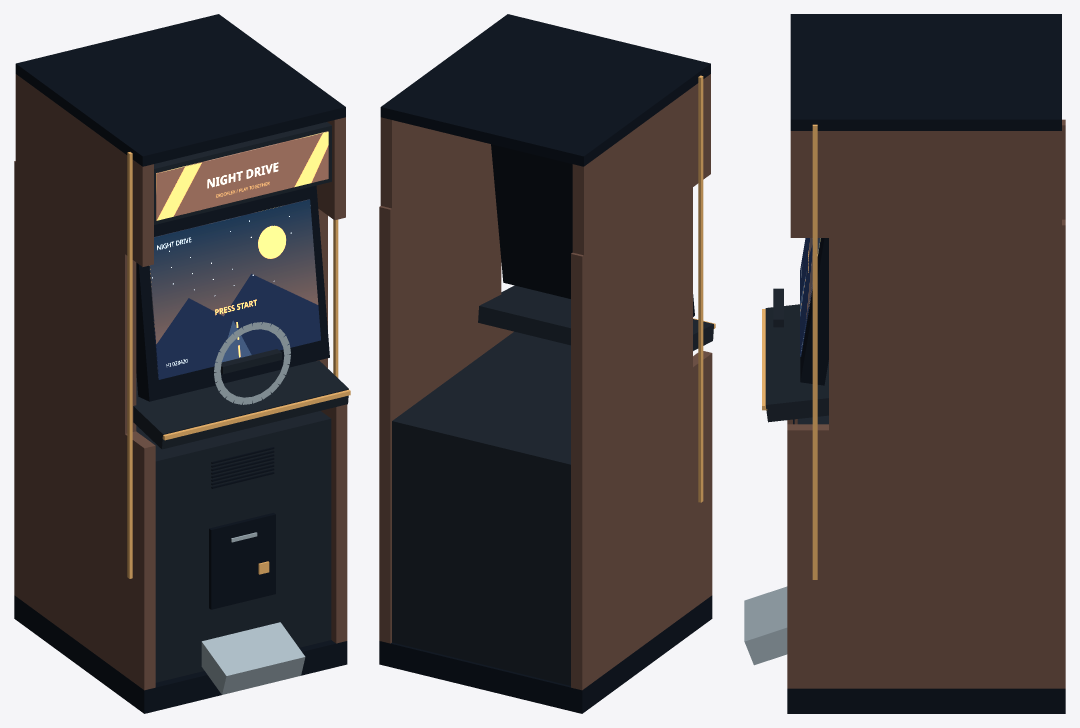
Rendered from arcade-night-drive.glb.
3 views of the same model, side by side, from view 1: azimuth 30°, elevation 25°; view 2: azimuth 150°, elevation 25°; view 3: azimuth 270°, elevation 25° (orthographic). The views are drawn at different scales.
Visible parts, largest first — view 1: Lower side panel (×2), Lower chassis, Top cap, Monitor side panel (×2), Tilted game screen, Marquee side panel (×2), Control deck, Lit marquee, Monitor housing, Grounded cabinet base, Coin door, Pedal plate (+4 smaller); view 2: Lower chassis, Monitor side panel (×2), Lower side panel (×2), Top cap, Marquee side panel (×2), Monitor housing, Grounded cabinet base, Control deck, Side stripe; view 3: Lower side panel, Monitor side panel, Top cap, Marquee side panel, Grounded cabinet base, Control deck, Pedal plate, Side stripe, Monitor housing, Tilted game screen.
Boxes of the visible parts, <box> form: Lower side panel (×2): <box>14,353,347,690</box>; Lower chassis: <box>136,374,331,682</box>; Top cap: <box>15,14,345,166</box>; Monitor side panel (×2): <box>14,161,327,433</box>; Tilted game screen: <box>149,199,320,379</box>; Marquee side panel (×2): <box>15,74,345,266</box>; Control deck: <box>133,360,348,449</box>; Lit marquee: <box>156,131,328,220</box>; Monitor housing: <box>136,185,329,401</box>; Grounded cabinet base: <box>14,595,347,713</box>; Coin door: <box>209,512,275,609</box>; Pedal plate: <box>201,622,305,694</box>; Lower chassis: <box>392,331,570,685</box>; Monitor side panel (×2): <box>379,142,692,448</box>; Lower side panel (×2): <box>379,326,712,690</box>; Top cap: <box>380,14,710,166</box>; Marquee side panel (×2): <box>380,74,710,265</box>; Monitor housing: <box>491,144,694,316</box>; Grounded cabinet base: <box>379,595,712,713</box>; Control deck: <box>478,285,713,350</box>; Side stripe: <box>698,75,703,502</box>; Lower side panel: <box>787,424,1065,688</box>; Monitor side panel: <box>829,219,1065,430</box>; Top cap: <box>790,14,1061,130</box>; Marquee side panel: <box>790,131,1061,237</box>; Grounded cabinet base: <box>787,688,1065,713</box>; Control deck: <box>765,304,828,422</box>; Pedal plate: <box>744,586,787,665</box>; Side stripe: <box>812,124,817,579</box>; Monitor housing: <box>800,238,828,385</box>; Tilted game screen: <box>800,238,820,356</box>.
Size of the model in its own units: 0.74 by 1.88 by 0.9233.
7 materials, 2 textured.
